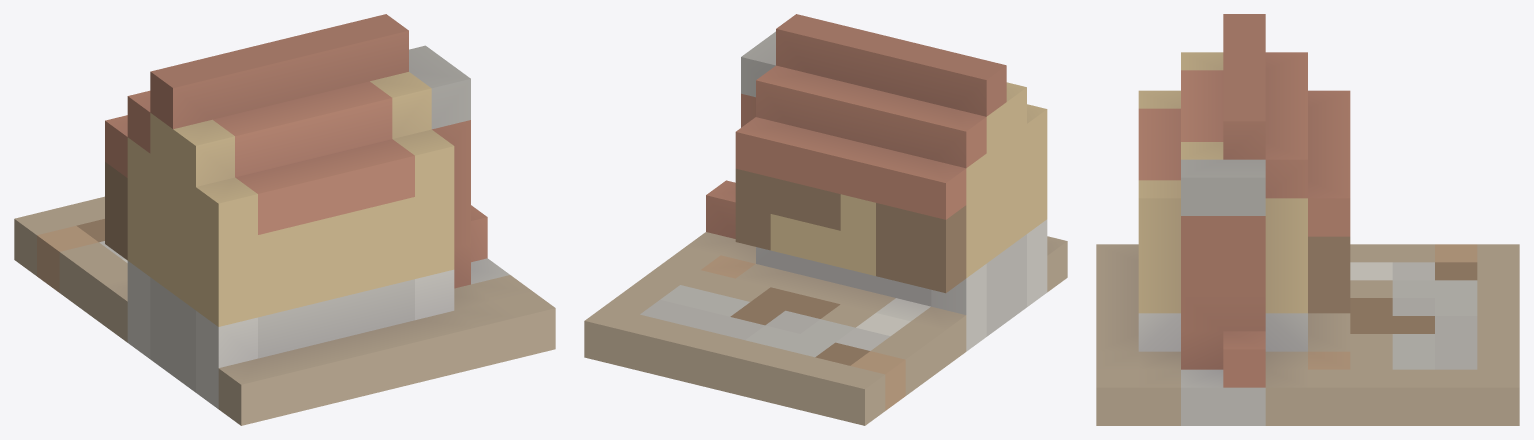
The model's file is bakery.lite.glb.
The picture shows the model from 3 angles, left to right: view 1: azimuth 30°, elevation 25°; view 2: azimuth 150°, elevation 25°; view 3: azimuth 270°, elevation 25°; orthographic projection. The views are drawn at different scales.
Visible parts, largest first — view 1: bakery; view 2: bakery; view 3: bakery.
Boxes of the visible parts, x1,y1,x2,y2 form: bakery: [14, 14, 555, 425]; bakery: [584, 14, 1067, 425]; bakery: [1096, 14, 1519, 425].
Size of the model in its own units: 4 by 3.5 by 5.
